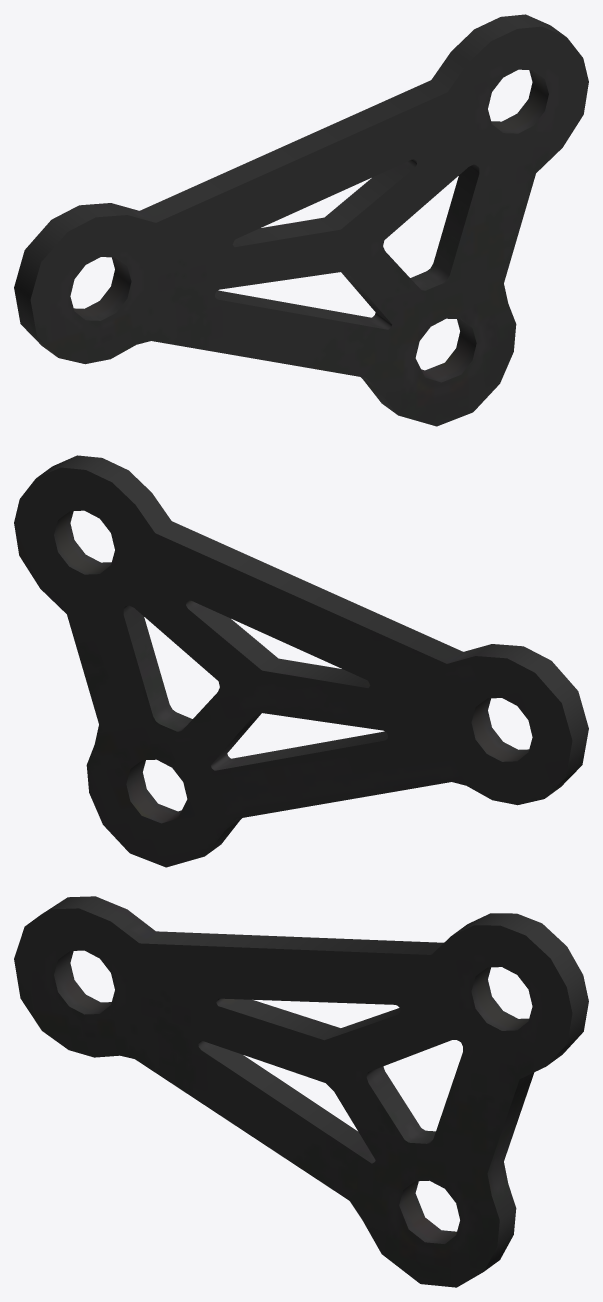
Rendered from triangle.dae.
3 views of the same model, one above another, from view 1: azimuth 30°, elevation 25°; view 2: azimuth 150°, elevation 25°; view 3: azimuth 330°, elevation 25° (orthographic).
Visible parts, largest first — view 1: triangle; view 2: triangle; view 3: triangle.
Boxes of the visible parts, x1=… form: triangle: x1=14, y1=14, x2=588, y2=426; triangle: x1=14, y1=455, x2=588, y2=867; triangle: x1=14, y1=896, x2=588, y2=1287.
Bounding box in the file's own units: 0.0599 × 0.00307 × 0.0388.
